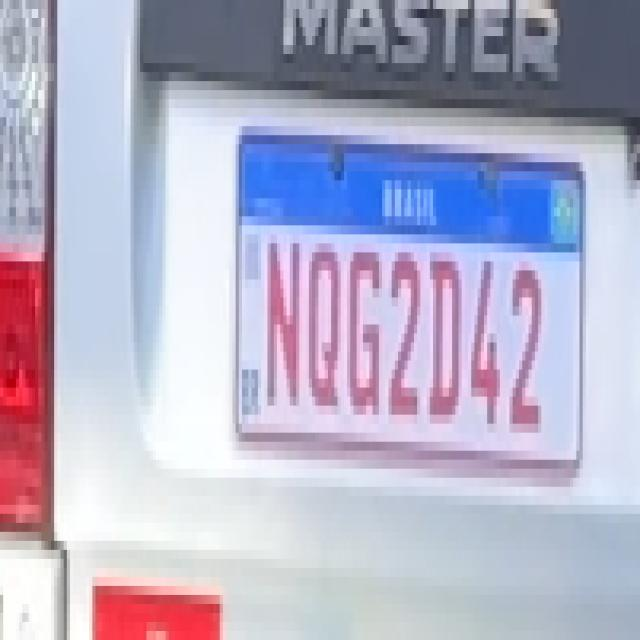Placa_mercosul_carro: (237, 112, 587, 477)
